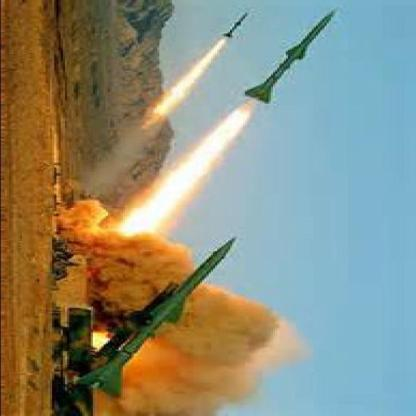MIL_TBM: (77, 233, 247, 399), (246, 5, 357, 117), (222, 11, 249, 39)
